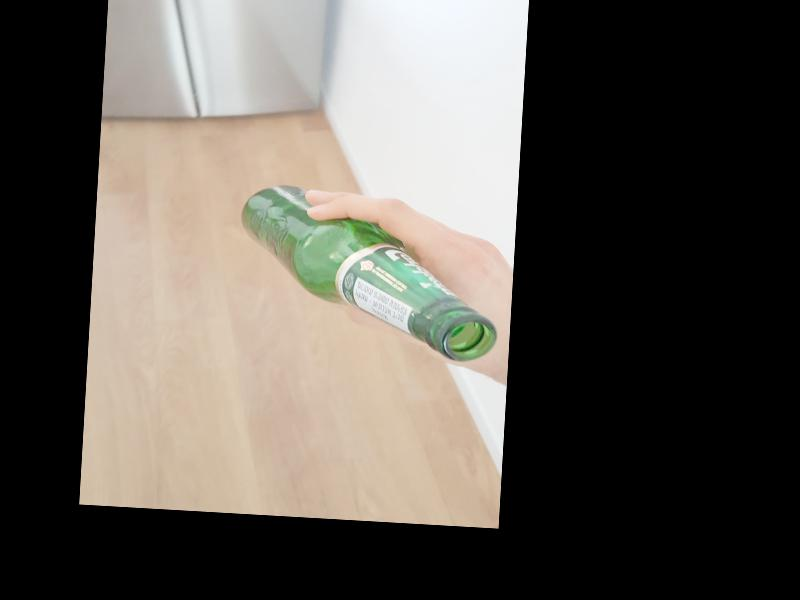Beer: (233, 183, 505, 364)
